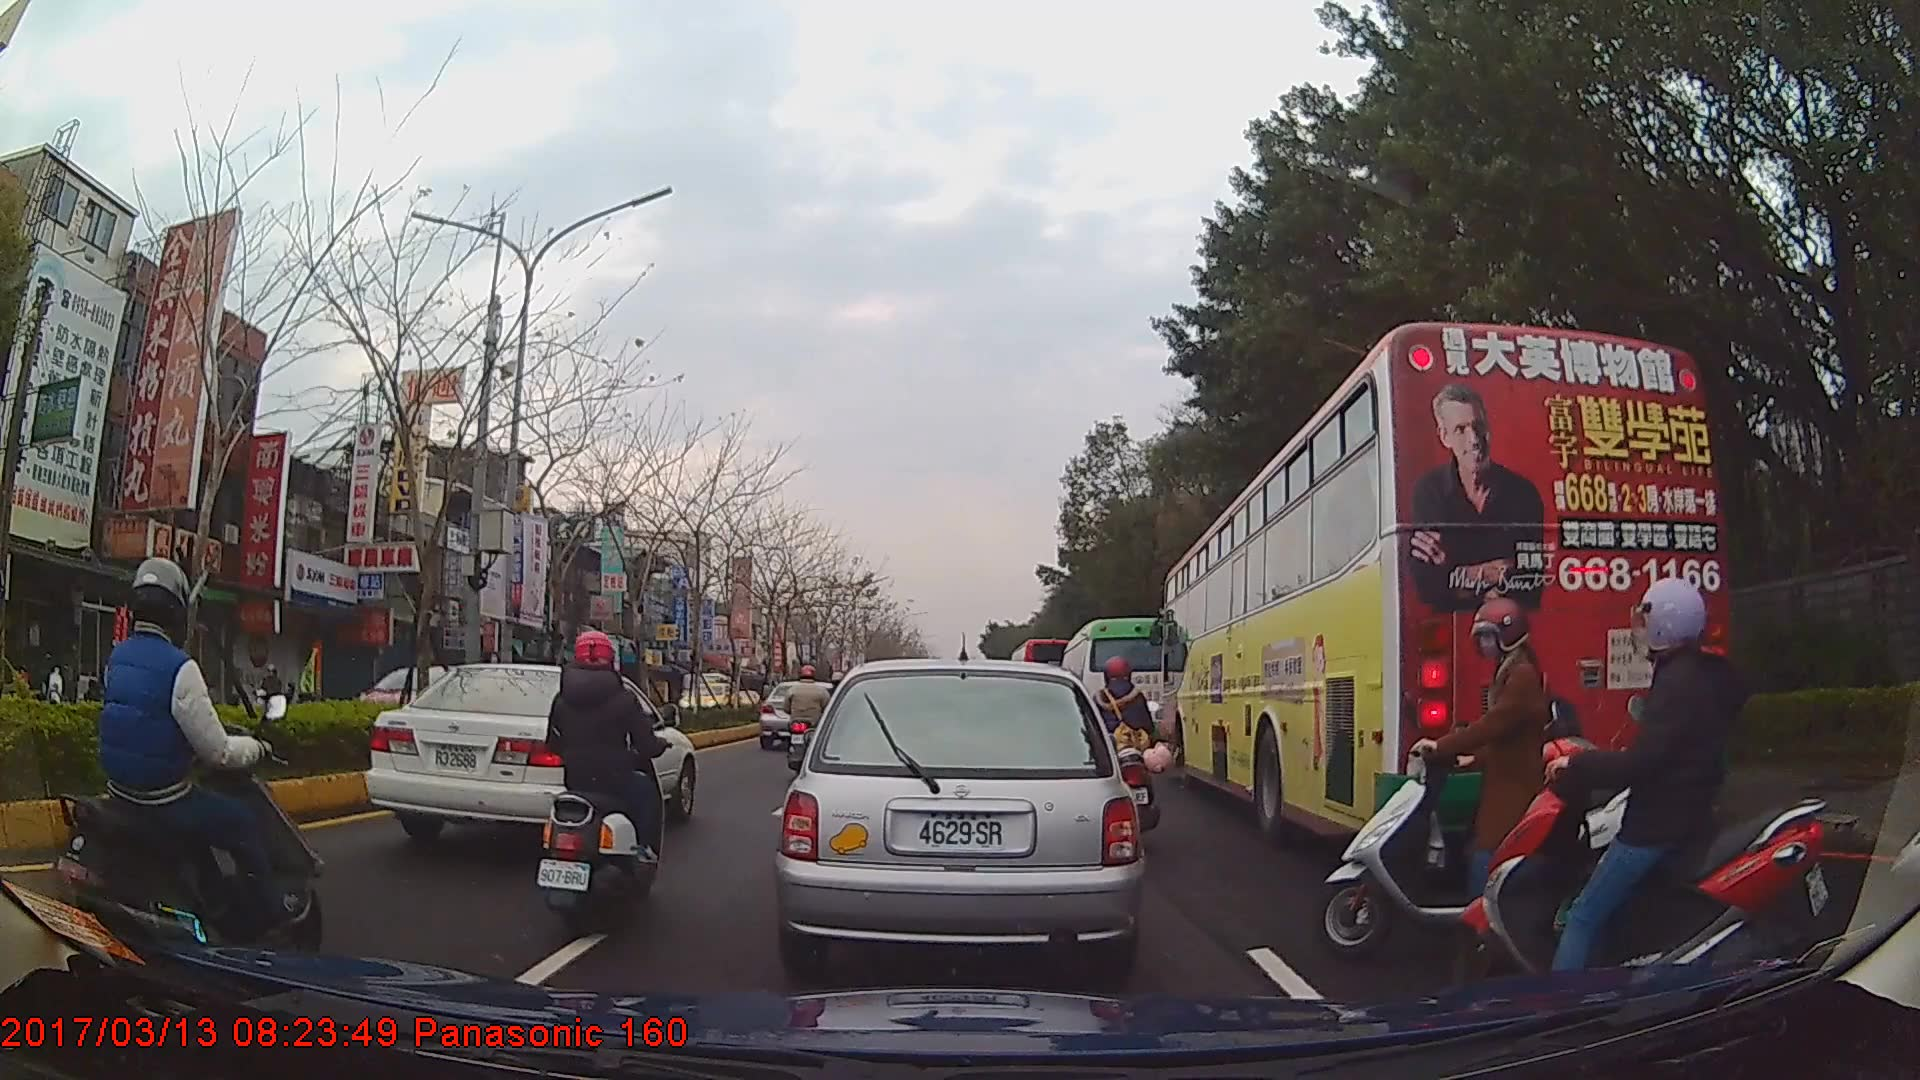rider: (1455, 575, 1822, 1039), (1315, 595, 1669, 968), (49, 557, 322, 999), (535, 629, 672, 943), (1083, 657, 1171, 828), (787, 663, 834, 775), (257, 662, 285, 705)
vehicle: (1160, 319, 1730, 847), (773, 656, 1146, 974), (360, 660, 698, 848), (1056, 616, 1186, 760), (681, 680, 740, 717)
